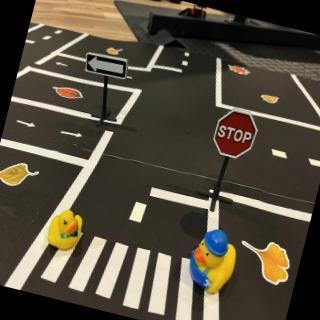duck_regular: (45, 206, 88, 256)
duck_specialty: (183, 225, 243, 300)
road_crosswalk: (34, 219, 211, 320)
road_oneway: (12, 115, 41, 132), (59, 125, 86, 141), (54, 58, 71, 71)
sign_oneway_left: (82, 50, 131, 83)
sign_stop: (209, 109, 261, 165)
